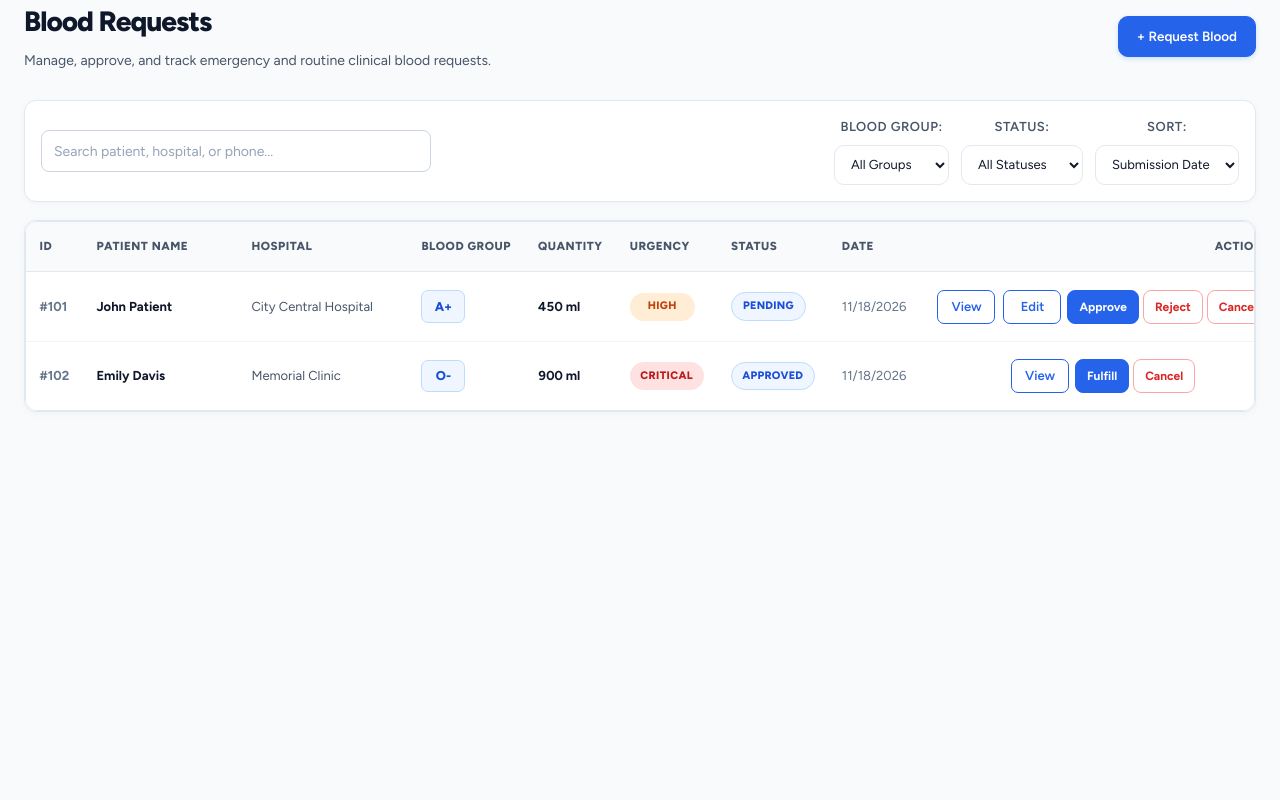
Test: BloodRequests Page Component › allows staff to approve a pending request
The width and height of the screenshot is (1280, 800).
Click the button with test id "btn-approve-101".
click(1103, 307)  # box [1068,290,1139,324]
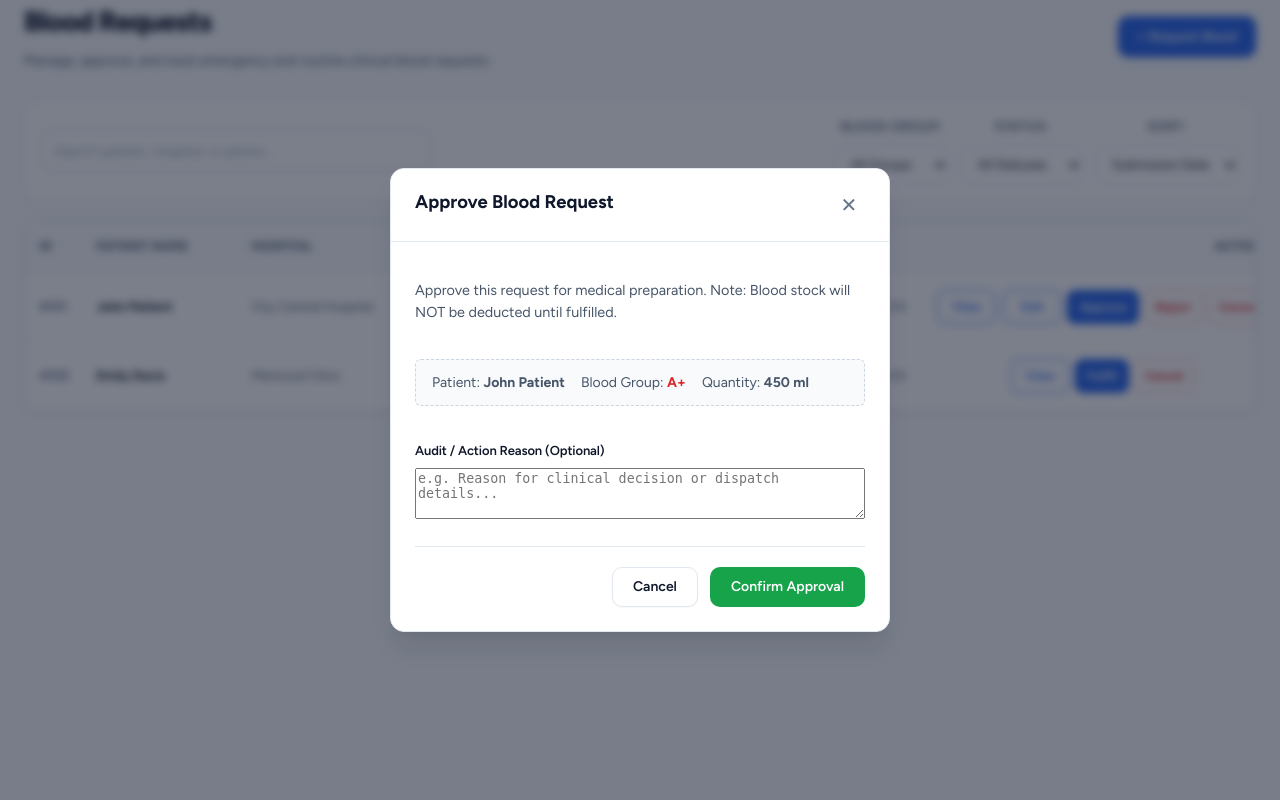
Expected: the dialog with test id "status-modal" is shown, [390,168,890,632]
Type "Approved for surgery" into the text box with test id "input-status-notes".
click(640, 493); type("Approved for surgery")  # box [415,468,865,519]
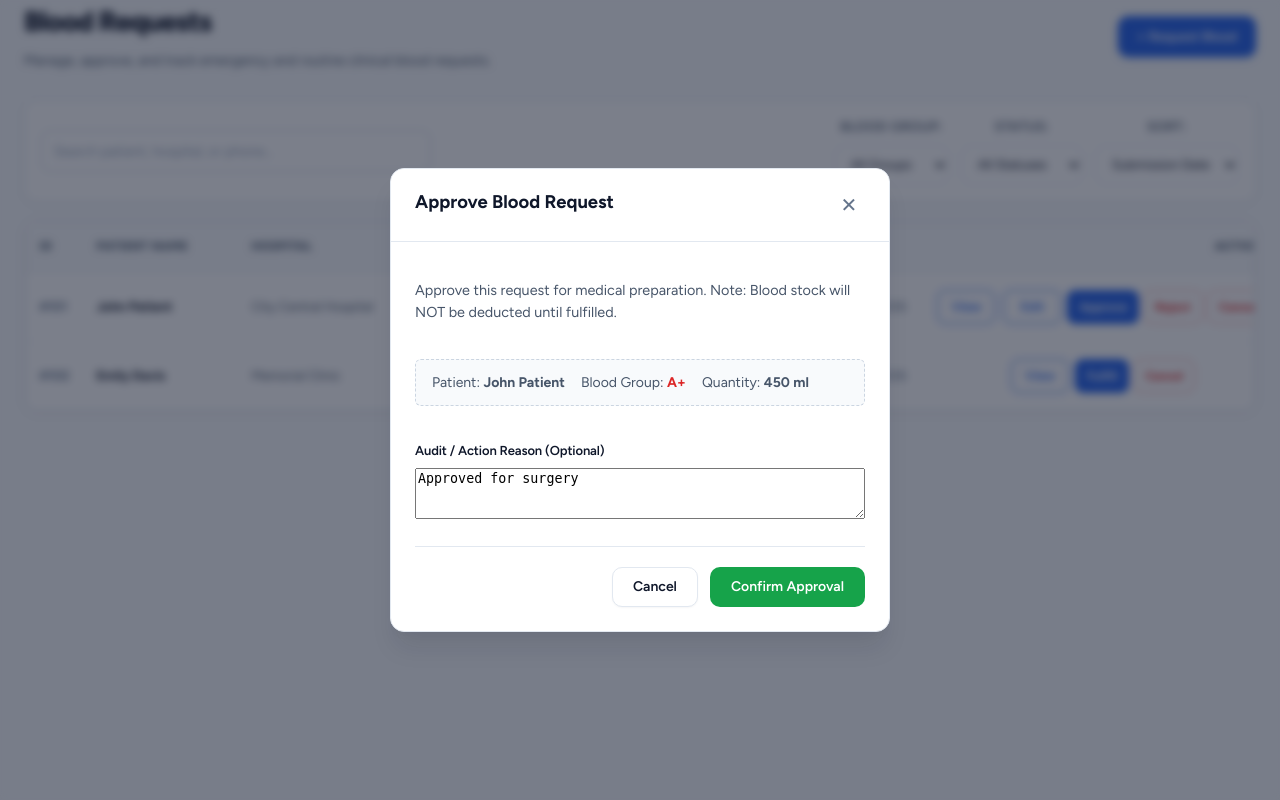
Click the button with test id "btn-confirm-status-action".
click(787, 587)  # box [710,567,865,607]
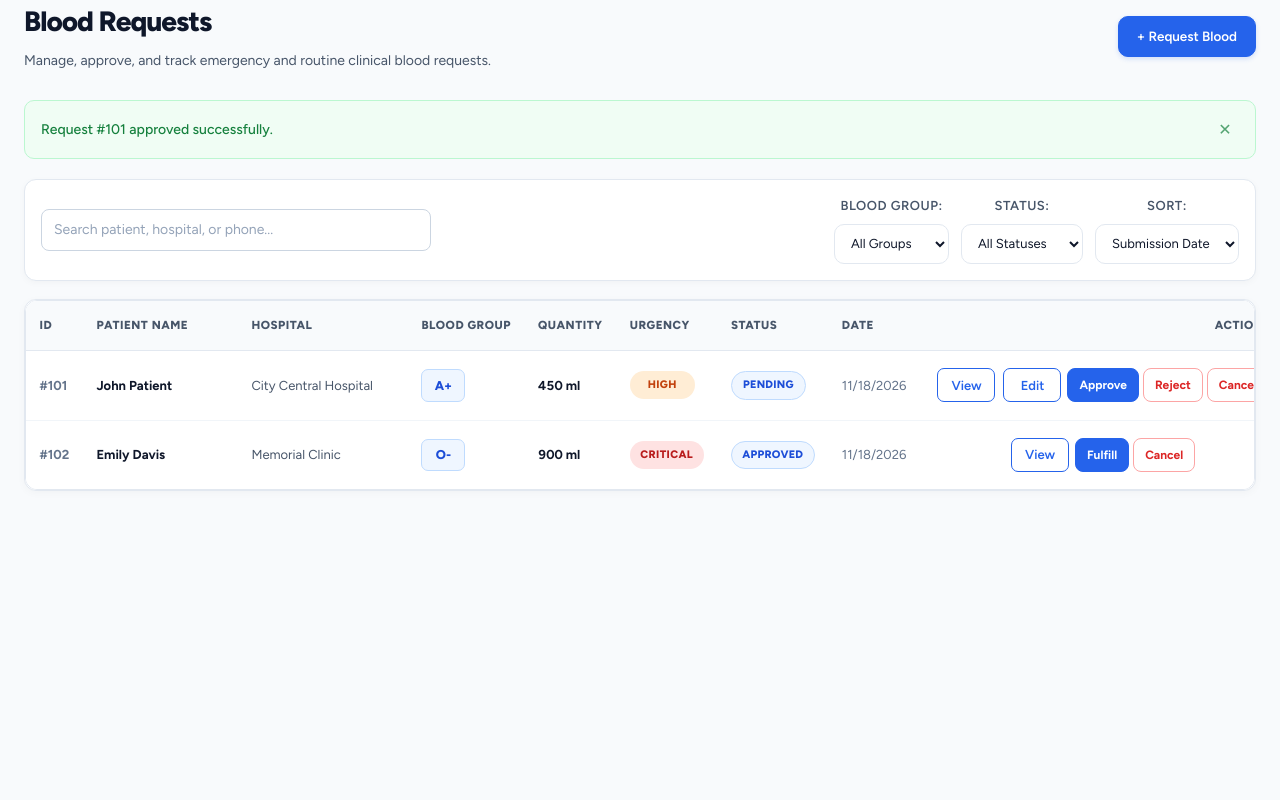
Expected: the element with test id "feedback-banner" shows "Request #101 approved successfully", [41,121,273,138]
